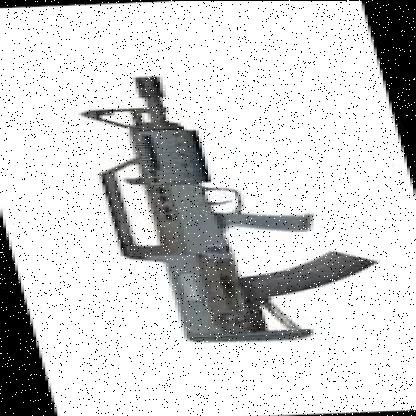rifle: (58, 71, 398, 351)
